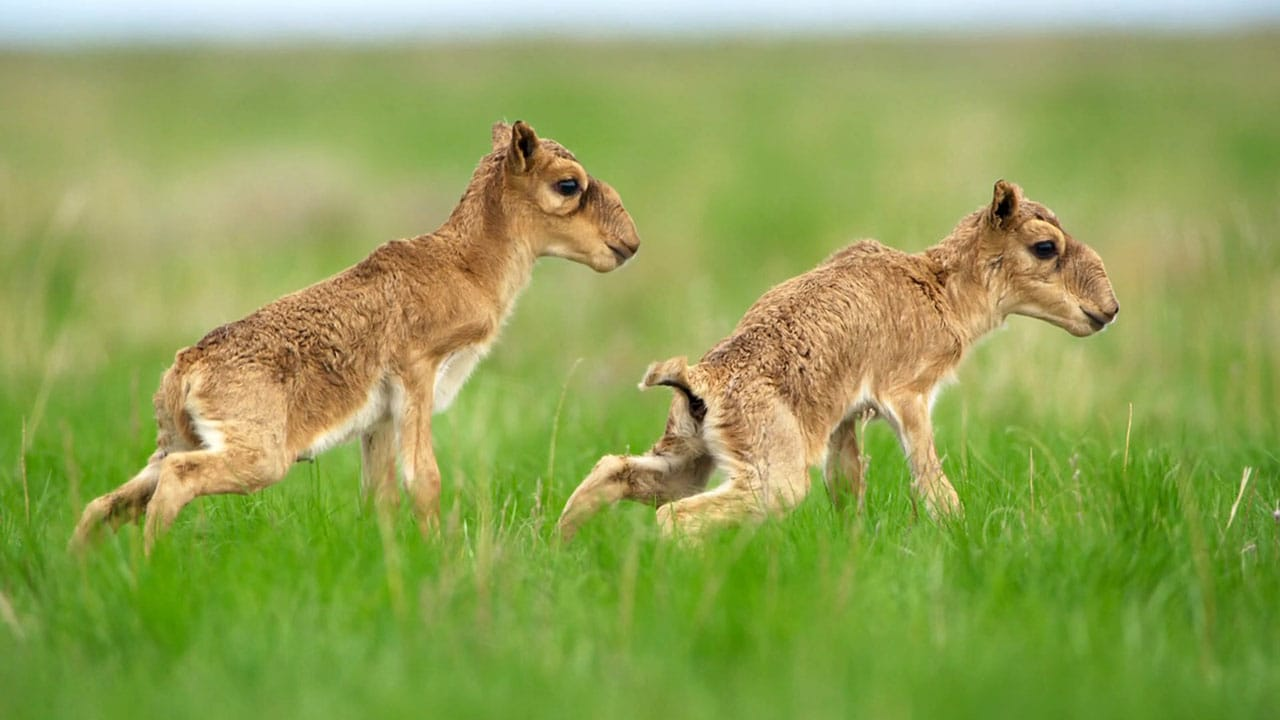saiga: (73, 120, 640, 574), (605, 178, 1120, 550)
